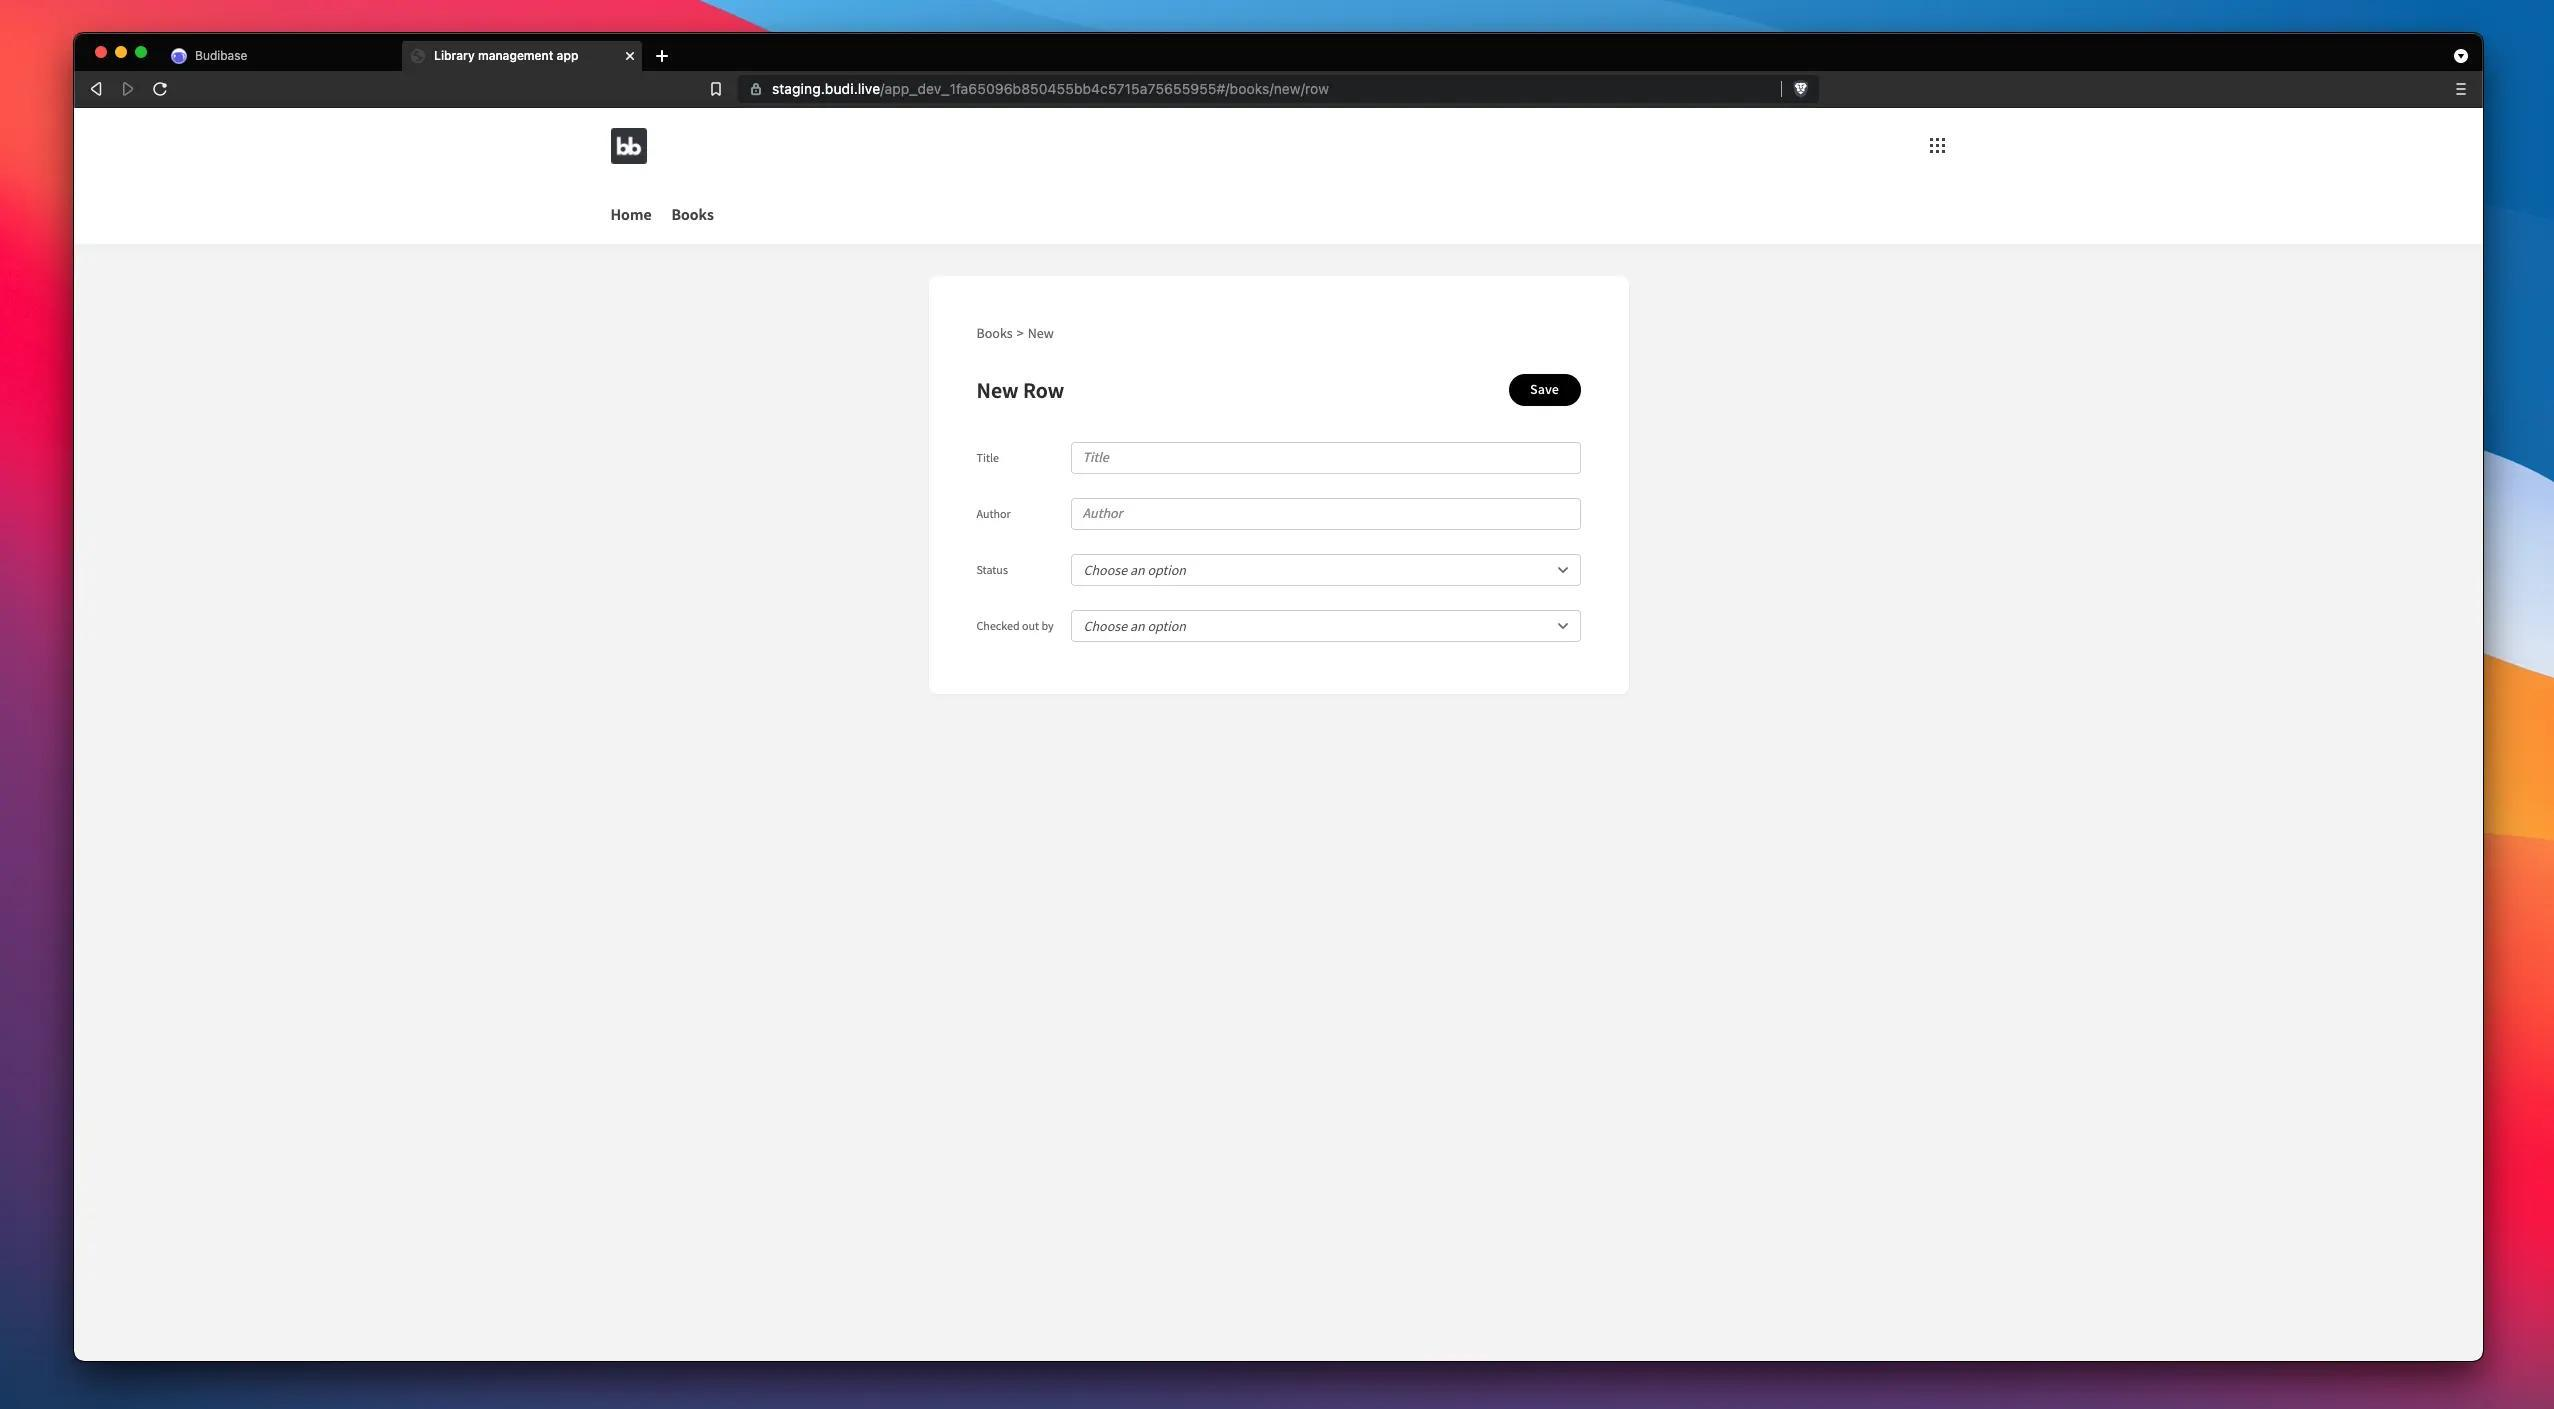button: (1508, 371, 1584, 411)
dropdown: (1071, 552, 1581, 588), (1072, 611, 1577, 642)
icon: (606, 125, 656, 170), (1926, 132, 1955, 163)
input: (1072, 496, 1584, 533), (1072, 441, 1581, 477)
label: (972, 377, 1074, 410), (973, 616, 1058, 637), (666, 203, 727, 231), (609, 206, 656, 233), (973, 505, 1024, 528), (973, 560, 1017, 587), (973, 448, 1012, 469)
